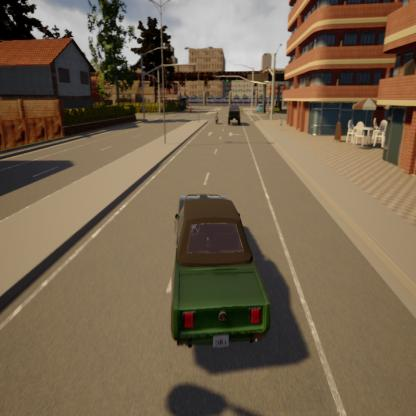Cars: (170, 189, 270, 353), (228, 101, 241, 128), (213, 105, 219, 126)
